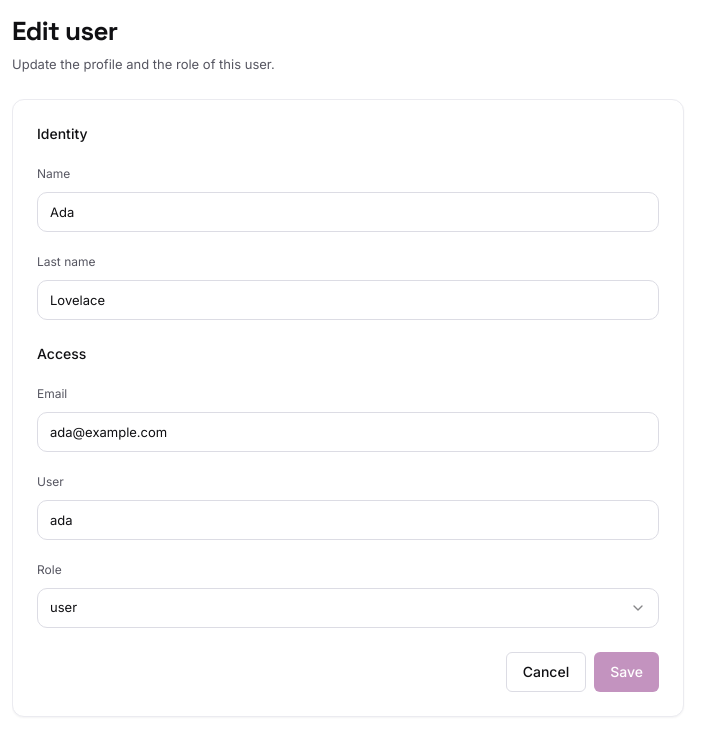
Test: edit user form — PATCH › maps UA-COM-003 onto the userName field only
Replace the text in the field labelled "Name" with "Ada King": (348, 212) [37,192,659,232]
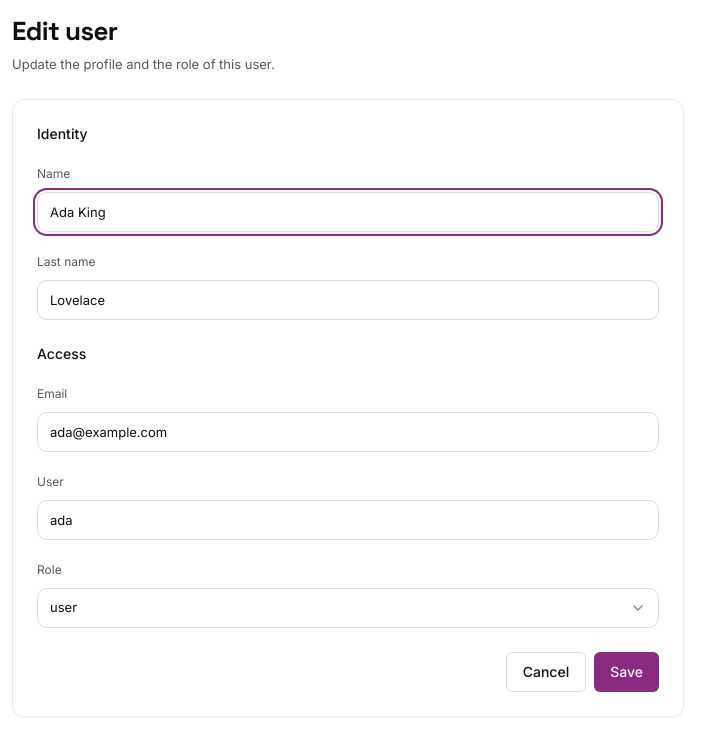
Click the button "Save": (627, 672) [594,652,659,692]
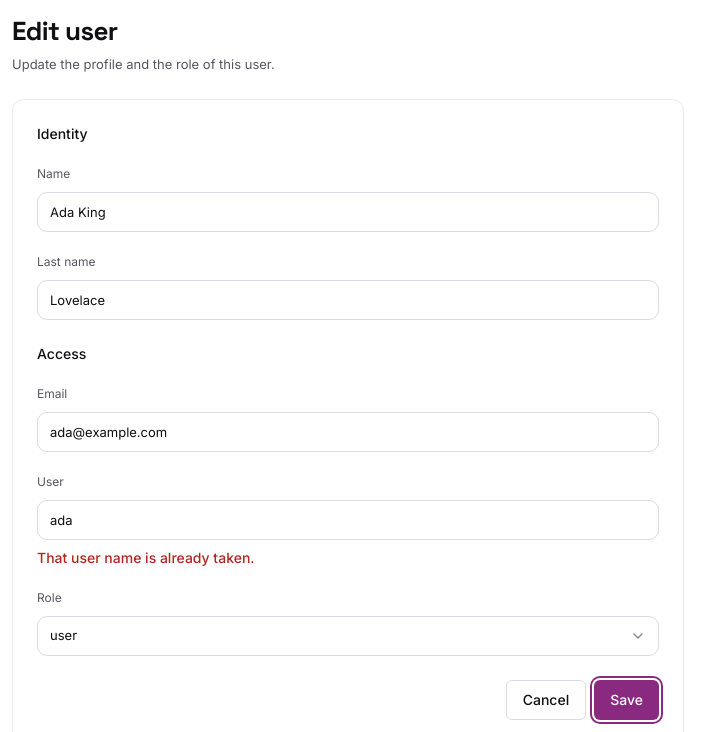
Expected: the text "That user name is already taken." is shown, [37,548,255,566]
